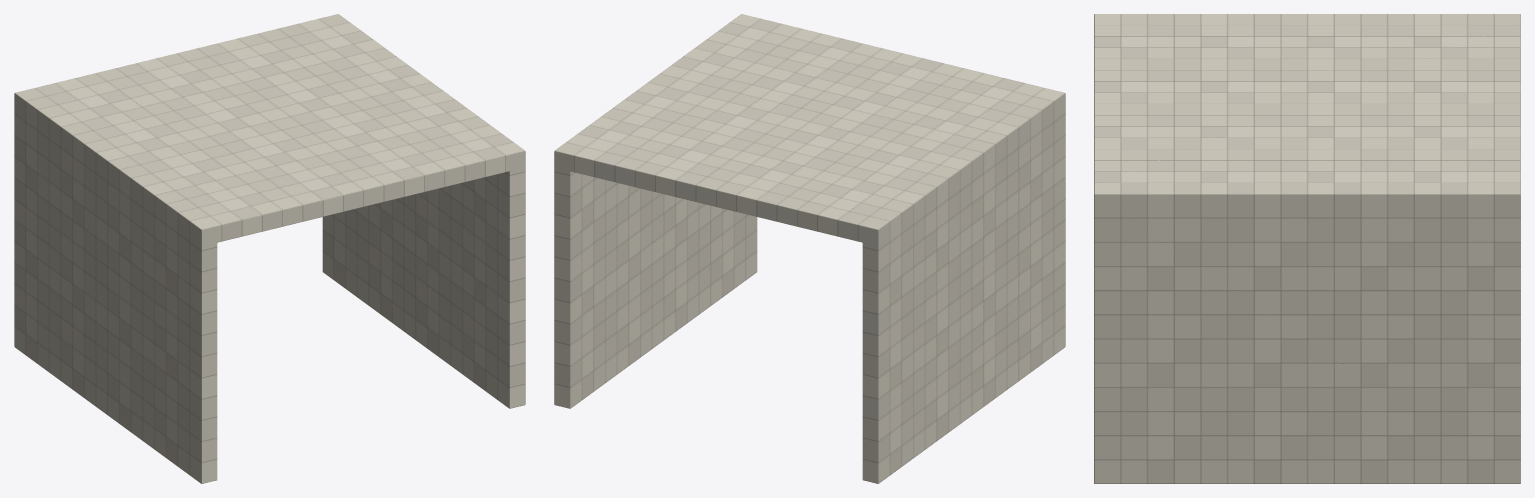
File: MOD_13_Tunnel.glb
The picture shows the model from 3 angles, left to right: view 1: azimuth 30°, elevation 25°; view 2: azimuth 150°, elevation 25°; view 3: azimuth 270°, elevation 25°; orthographic projection. The views are drawn at different scales.
Parts seen in each view (by area): view 1: MOD_13_Tunnel_Export; view 2: MOD_13_Tunnel_Export; view 3: MOD_13_Tunnel_Export.
Part boxes in pixels (x1,y1,x2,y2): MOD_13_Tunnel_Export: (14,14,525,483); MOD_13_Tunnel_Export: (554,14,1065,483); MOD_13_Tunnel_Export: (1094,14,1520,483).
Bounding box in the file's own units: 4 × 3 × 4.
1 material, 1 textured.
